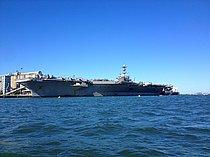MIL_Ship: (15, 65, 180, 98)
